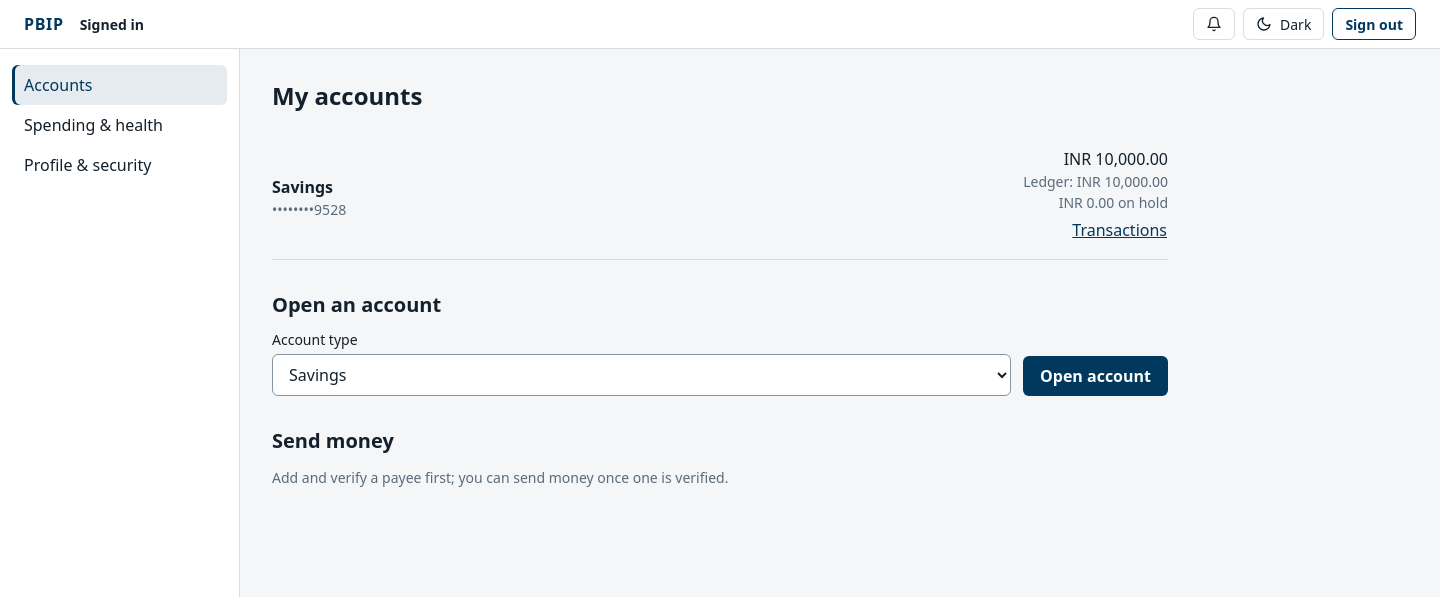
Customer Financial Analytics UI (TASK-049) › 1. Renders customer navigation link and navigates to /insights
The width and height of the screenshot is (1440, 597).
Click the link "Spending & health". click: (94, 125)
box: [24,114,163,136]
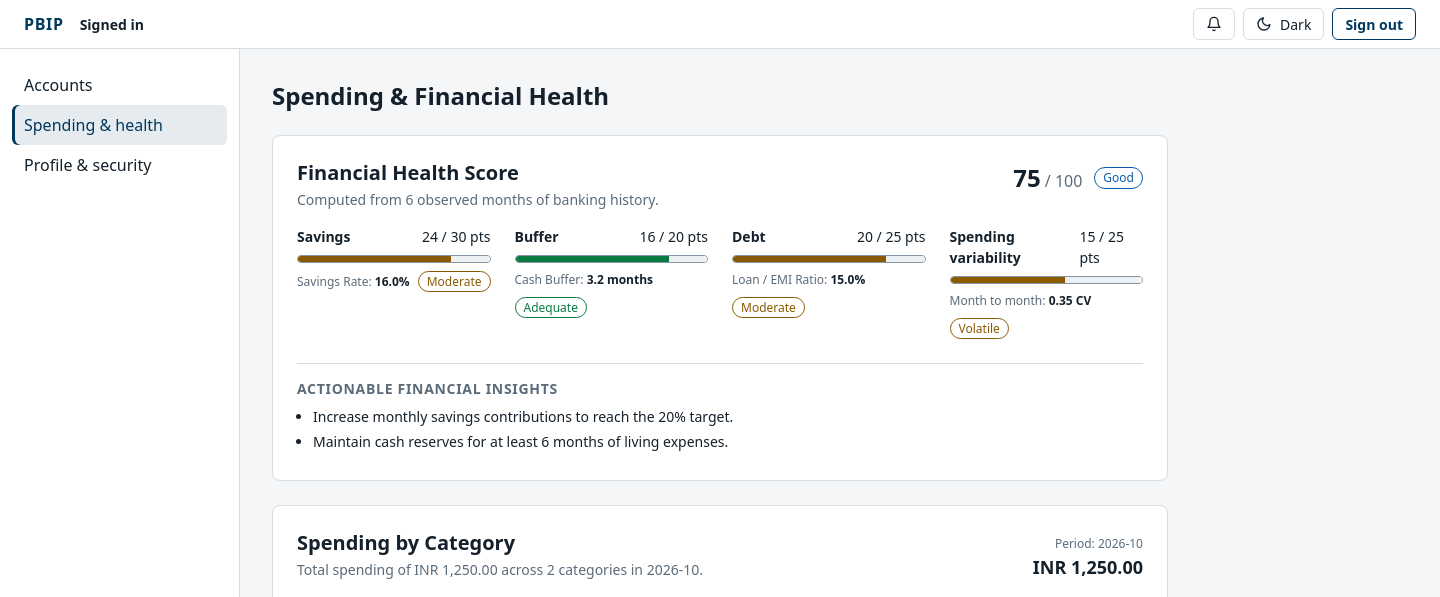
Expected: the heading "Spending & Financial Health" is shown, [272,81,609,111]
